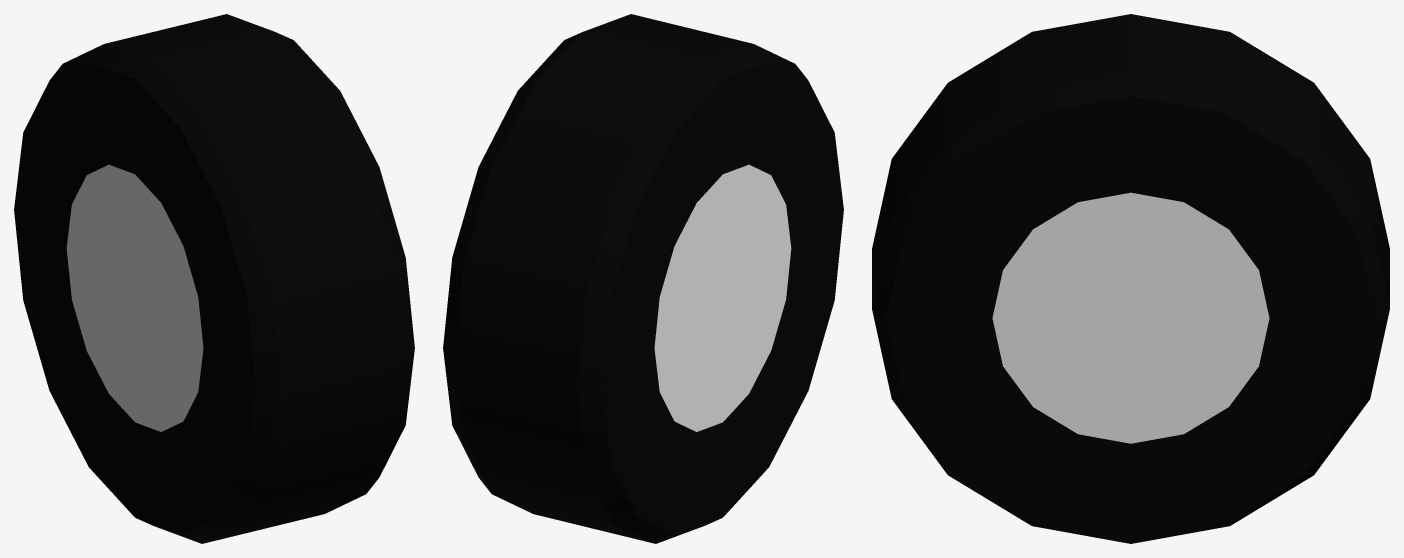
Rendered from Wheel2.obj.
3 renders of one model, left to right at view 1: azimuth 30°, elevation 25°; view 2: azimuth 150°, elevation 25°; view 3: azimuth 270°, elevation 25°, orthographic.
Parts seen in each view (by area): view 1: Wheel; view 2: Wheel; view 3: Wheel.
Boxes of the visible parts, bbox=[...] form: Wheel: bbox=[14, 14, 414, 543]; Wheel: bbox=[443, 14, 843, 543]; Wheel: bbox=[872, 14, 1389, 543].
Size of the model in its own units: 0.3474 by 0.9693 by 0.9693.
